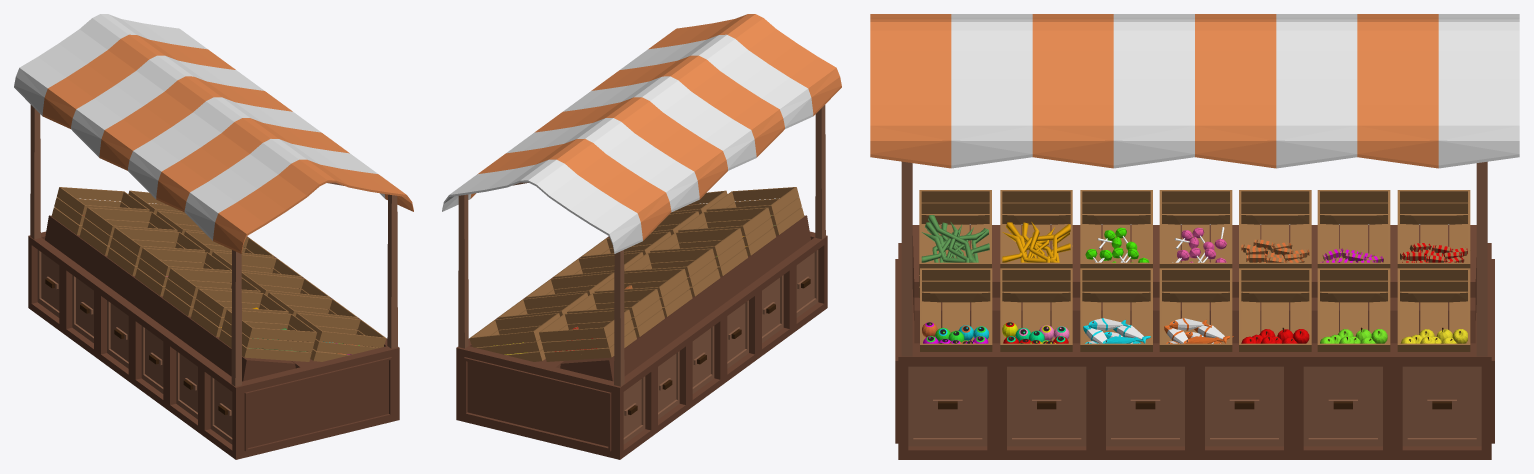
File: IngredientStandOrange.fbx
3 renders of one model, left to right at view 1: azimuth 30°, elevation 25°; view 2: azimuth 150°, elevation 25°; view 3: azimuth 270°, elevation 25°, orthographic. The views are drawn at different scales.
Parts seen in each view (by area): view 1: IngredientStand; view 2: IngredientStand; view 3: IngredientStand.
Part boxes in pixels (box(x1,y1,x2,y2)): IngredientStand: box(14, 14, 413, 459); IngredientStand: box(442, 14, 841, 459); IngredientStand: box(870, 14, 1519, 459).
Bounding box in the file's own units: 720 × 1065 × 1645.
